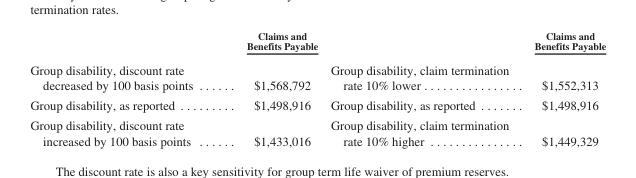table: (29, 29, 605, 147)
table column: (323, 29, 521, 147), (29, 29, 219, 147), (219, 29, 323, 147), (521, 29, 605, 147)
table column header: (29, 29, 605, 94)
table row: (29, 29, 605, 94), (29, 115, 605, 147), (29, 94, 605, 115)
